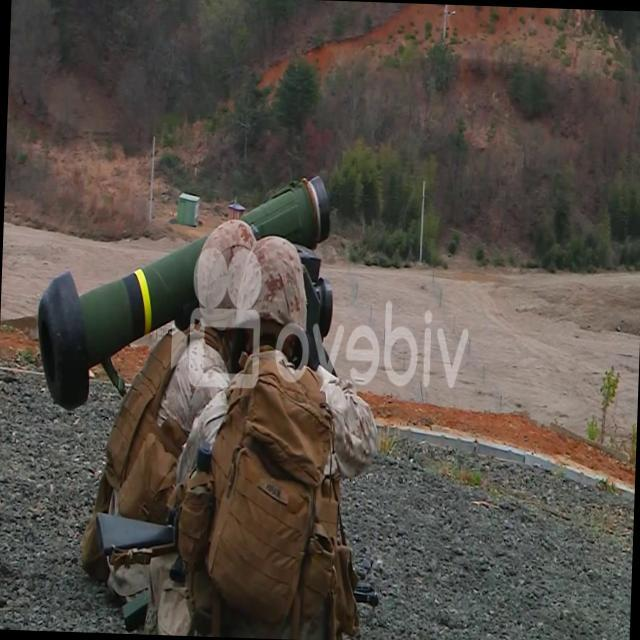rocket: (37, 165, 326, 417)
